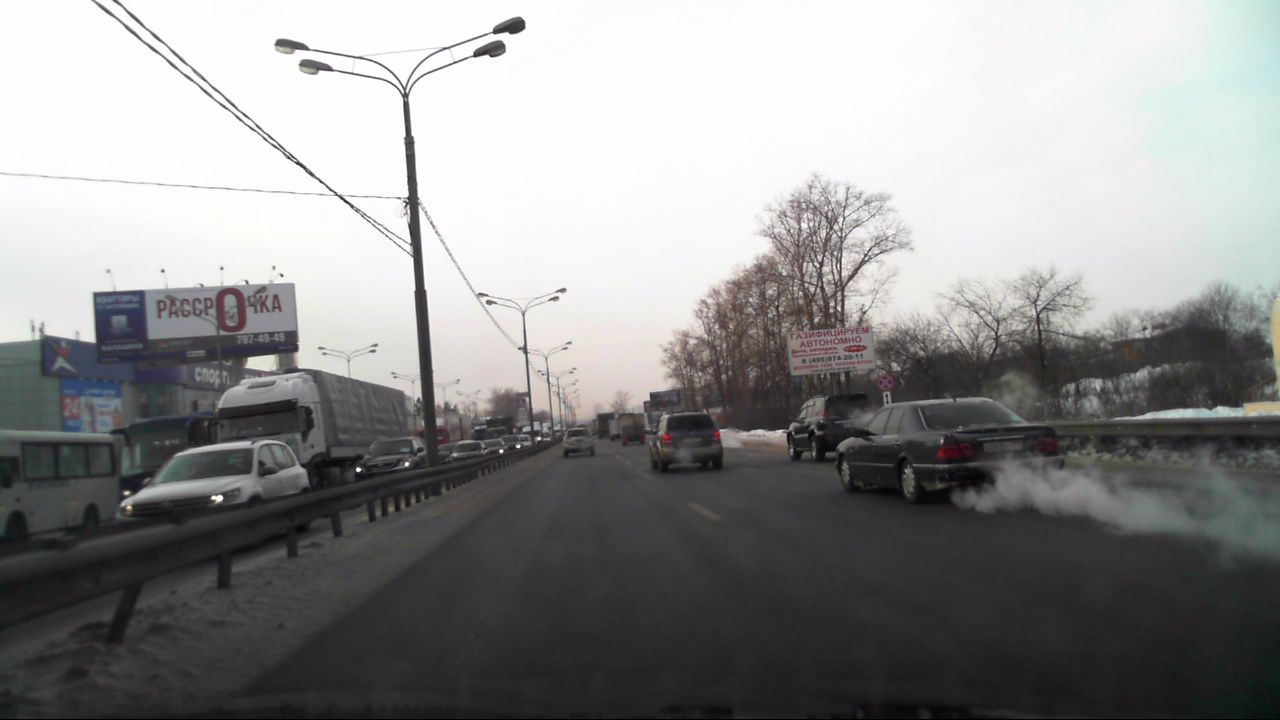No Parking: (876, 373, 893, 391)
